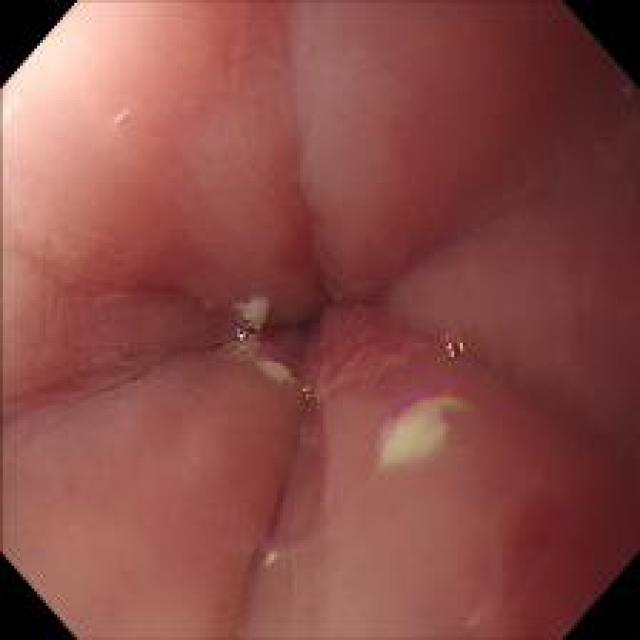bubbles: (438, 326, 475, 365), (230, 322, 255, 355)
color misalignment: (298, 375, 325, 410), (442, 330, 466, 362)
